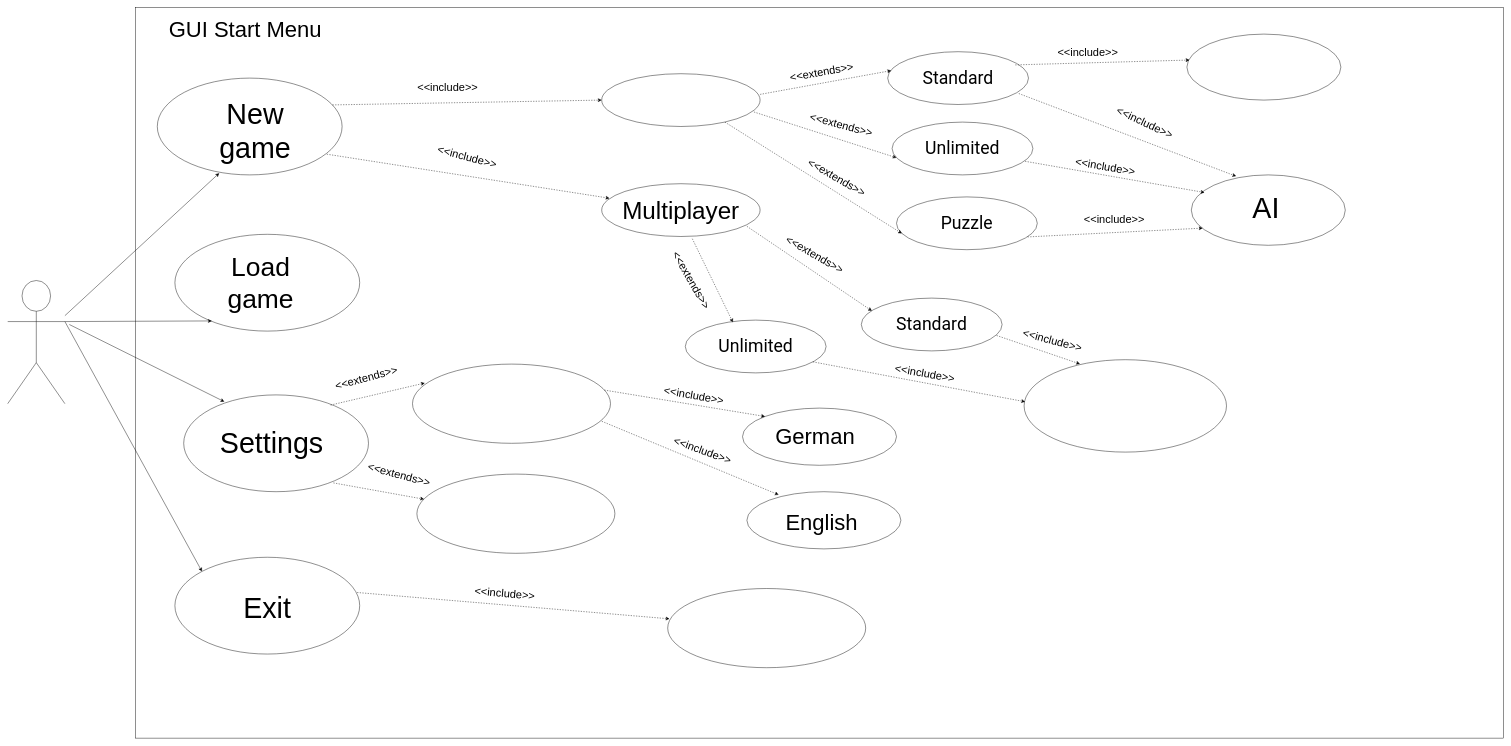
Some shapes in this 1511 by 746 pixel diagram are drawn without their labels. The centre of each missing label's shape, as x and y in pixels:
"Change language" belongs at [511,403].
"Close game" belongs at [766,628].
"play against another player" belongs at [1125,405].
"Player" belongs at [36,342].
"Resize window" belongs at [515,513].
"Singelplayer" belongs at [680,99].
"Timer" belongs at [1263,67].
